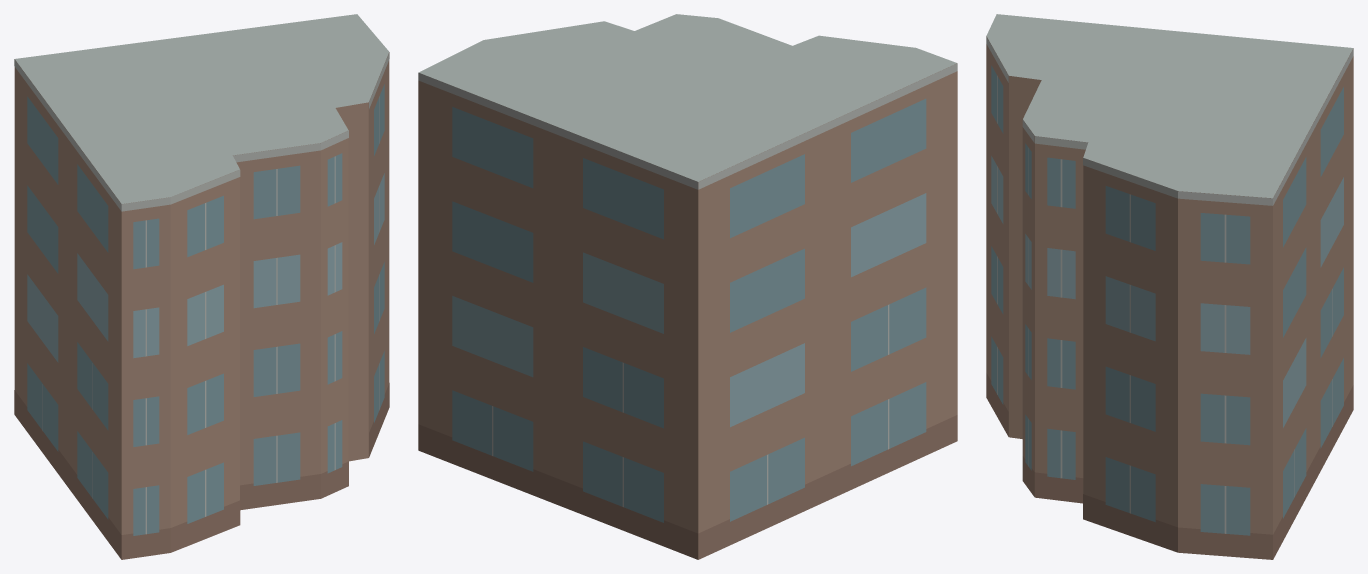
The model's file is survey-upis-32906669.glb.
3 renders of one model, left to right at view 1: azimuth 30°, elevation 25°; view 2: azimuth 150°, elevation 25°; view 3: azimuth 270°, elevation 25°, orthographic. The views are drawn at different scales.
Visible parts, largest first — view 1: survey-upis-32906669.tmp; view 2: survey-upis-32906669.tmp; view 3: survey-upis-32906669.tmp.
Part boxes in pixels (x1,y1,x2,y2): survey-upis-32906669.tmp: (14, 14, 389, 559); survey-upis-32906669.tmp: (418, 14, 957, 559); survey-upis-32906669.tmp: (986, 14, 1353, 559).
Size of the model in its own units: 12.69 by 11.6 by 10.69.
